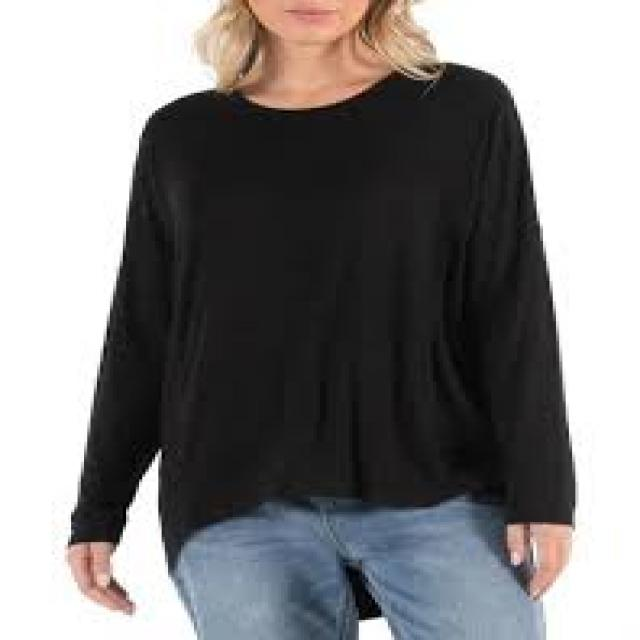plain: (78, 63, 591, 526)
